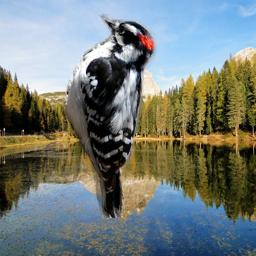Woodpecker: (62, 14, 158, 218)
